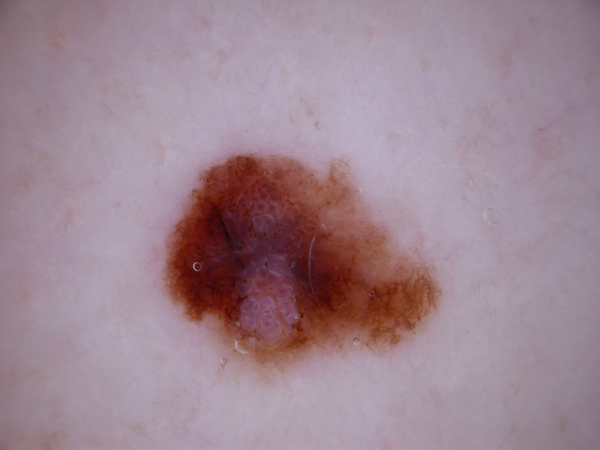Detected Lesion: (154, 143, 451, 378)
